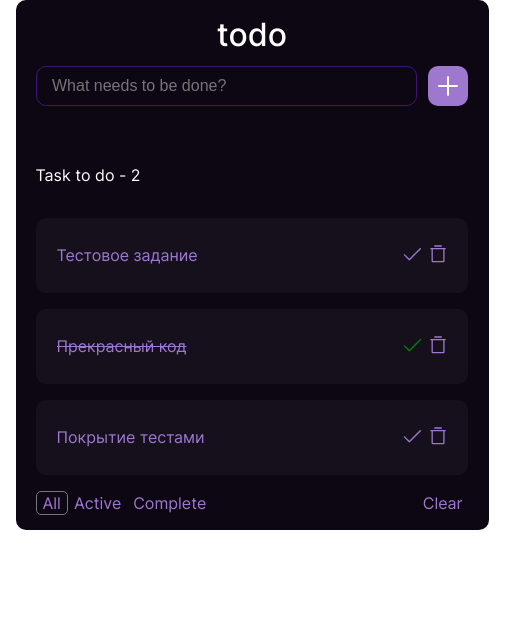
Test case: TodoList › addTodo
The width and height of the screenshot is (506, 638).
Type "Написать e2e тест" into the field with placeholder "What needs to be done?" at (227, 86), box [36,66,417,106]
Then press Enter
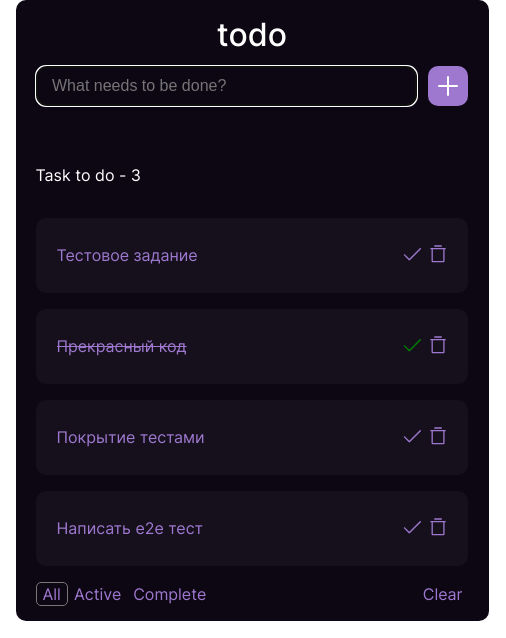
Expected: the number of list items is 4, [36,218,468,293]; [36,309,468,384]; [36,400,468,475]; [36,491,468,566]
